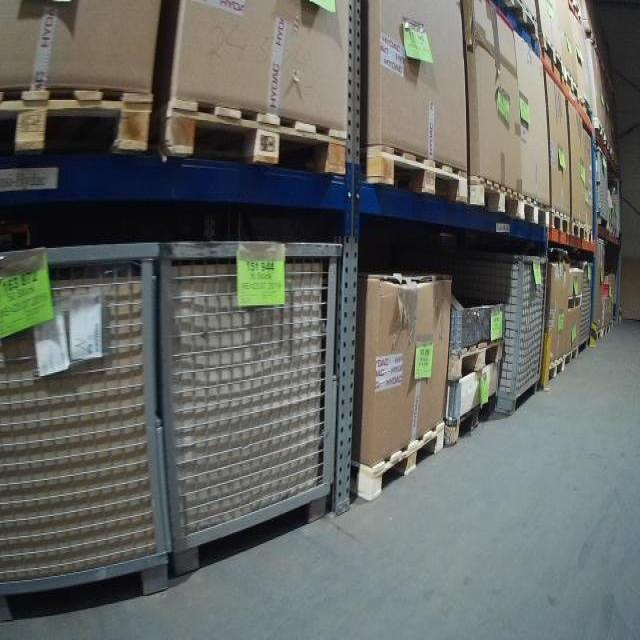pallet: (160, 94, 350, 180), (2, 90, 156, 157), (353, 418, 447, 507), (364, 139, 472, 206), (448, 392, 501, 447), (470, 172, 524, 223), (448, 338, 505, 381), (507, 1, 541, 39), (524, 196, 550, 232), (544, 45, 566, 75), (550, 207, 571, 238), (544, 353, 562, 389), (564, 344, 581, 372), (566, 292, 584, 314), (573, 218, 586, 244), (595, 329, 610, 340)
stillage: (155, 228, 352, 588), (1, 242, 172, 613), (403, 234, 550, 421), (572, 259, 596, 352), (593, 148, 612, 233), (609, 174, 624, 242)
